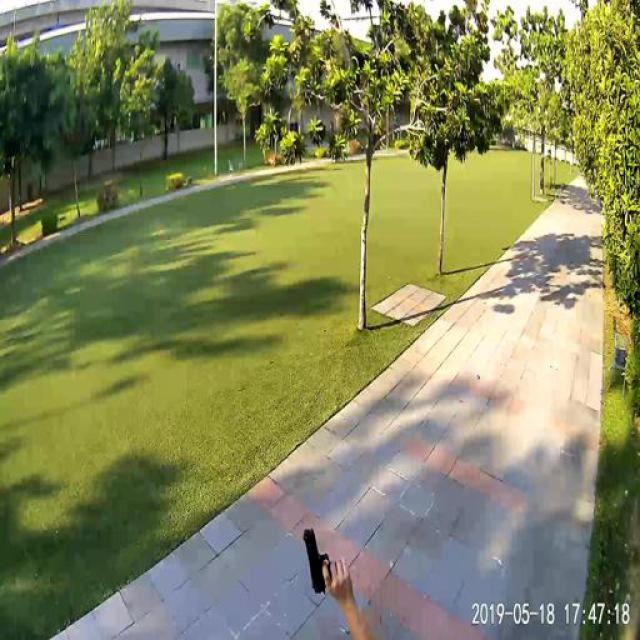weapon: (302, 525, 334, 595)
